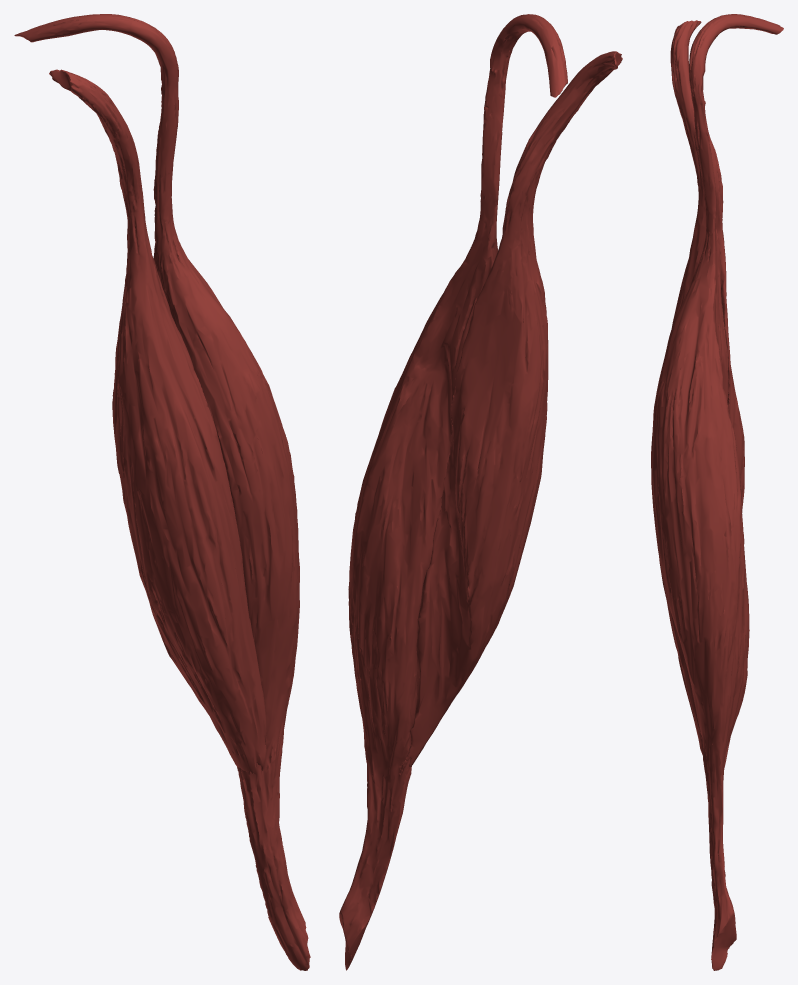
Rendered from explorar-biceps_brachii.glb.
The picture shows the model from 3 angles, left to right: view 1: azimuth 30°, elevation 25°; view 2: azimuth 150°, elevation 25°; view 3: azimuth 270°, elevation 25°; orthographic projection. The views are drawn at different scales.
Parts seen in each view (by area): view 1: biceps_brachii_left__cabeza_corta, biceps_brachii_left__cabeza_larga; view 2: biceps_brachii_left__cabeza_larga, biceps_brachii_left__cabeza_corta; view 3: biceps_brachii_left__cabeza_larga, biceps_brachii_left__cabeza_corta.
Part boxes in pixels (x1,y1,x2,y2): biceps_brachii_left__cabeza_corta: (49,69,266,774); biceps_brachii_left__cabeza_larga: (14,14,310,970); biceps_brachii_left__cabeza_larga: (339,14,567,970); biceps_brachii_left__cabeza_corta: (398,51,622,775); biceps_brachii_left__cabeza_larga: (651,14,783,970); biceps_brachii_left__cabeza_corta: (659,20,744,755).
Size of the model in its own units: 0.0962 by 0.3454 by 0.0479.
